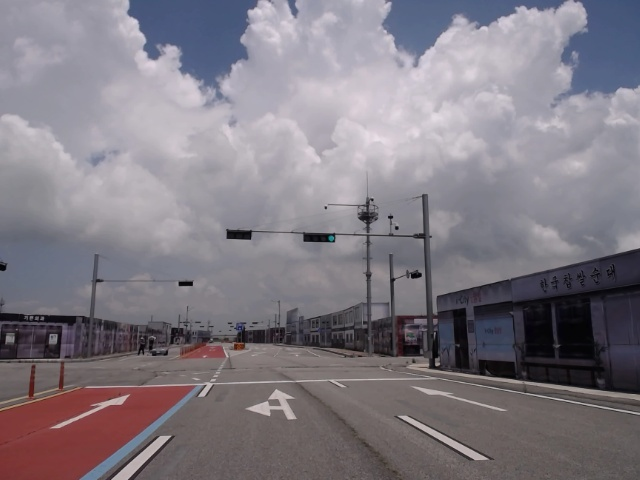straight_green_4: (302, 232, 335, 243)
